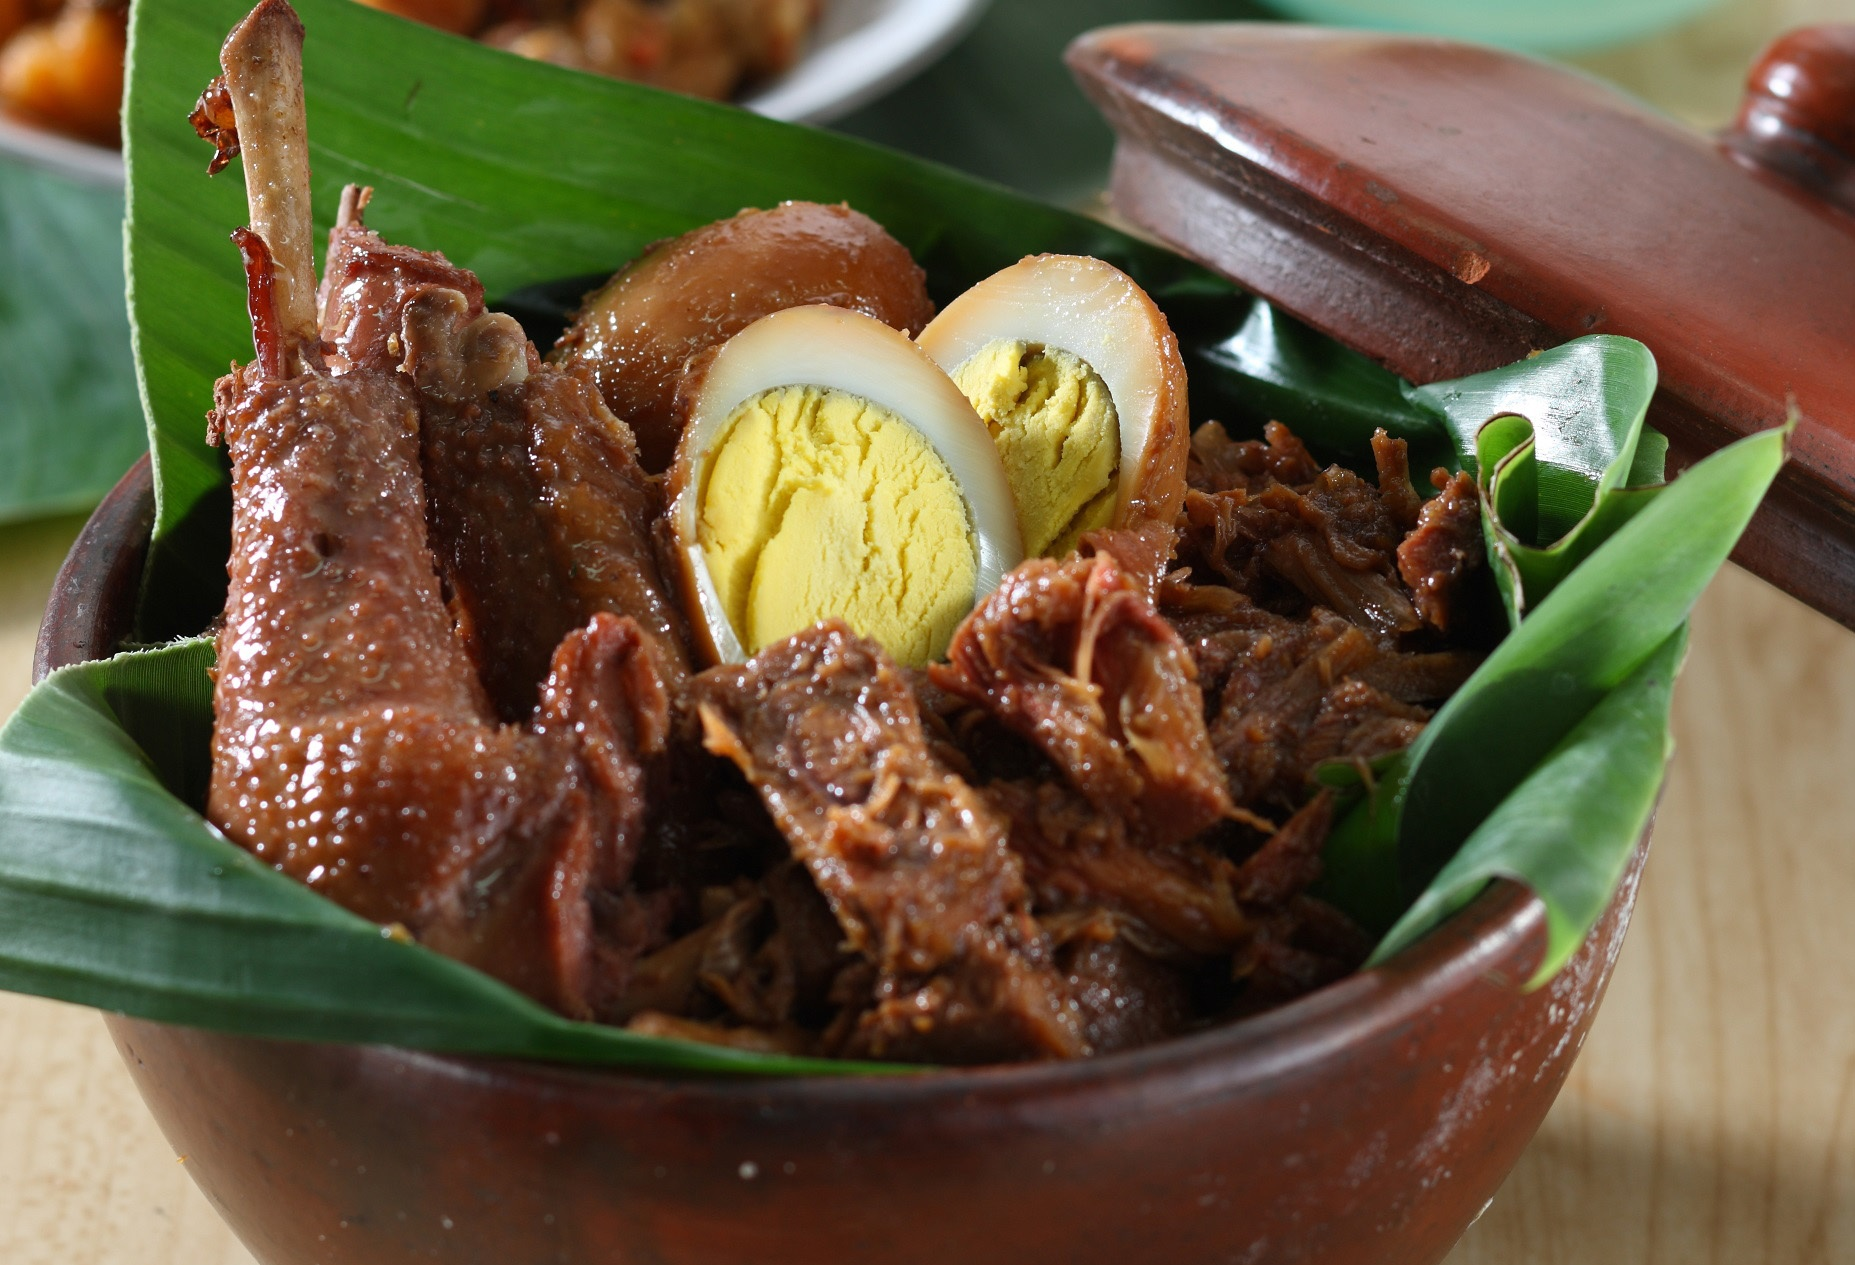gudeg: (196, 214, 1489, 1039)
